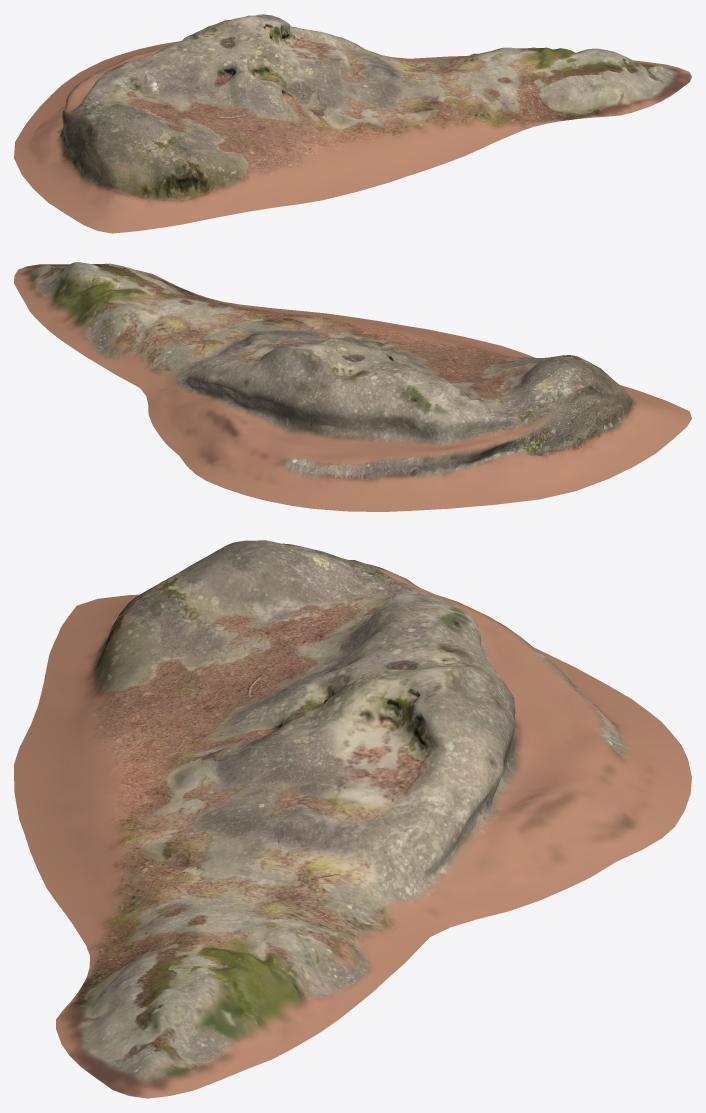
File: Rock_05.FBX
3 renders of one model, top to bottom at view 1: azimuth 30°, elevation 25°; view 2: azimuth 150°, elevation 25°; view 3: azimuth 270°, elevation 25°, orthographic. The views are drawn at different scales.
Visible parts, largest first — view 1: Rock05_LOD0; view 2: Rock05_LOD0; view 3: Rock05_LOD0.
Boxes of the visible parts, x1=… form: Rock05_LOD0: x1=14, y1=14, x2=691, y2=233; Rock05_LOD0: x1=14, y1=262, x2=691, y2=511; Rock05_LOD0: x1=14, y1=540, x2=691, y2=1098.
Size of what is drawn, in the model's own units: 5.29 by 2.99 by 0.6455.
Materials: 1 (1 with a texture image).
